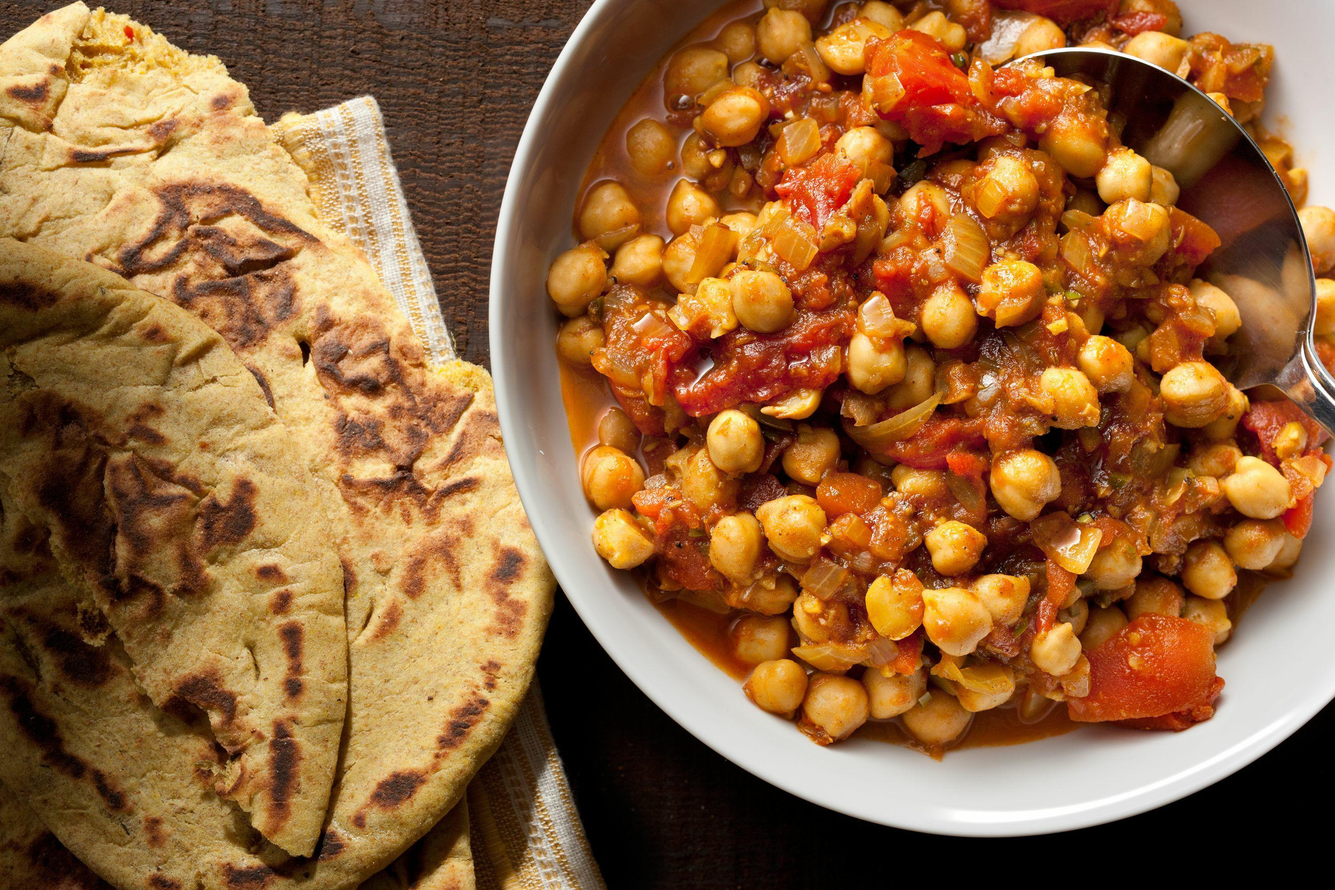Chole: (546, 3, 1335, 750)
